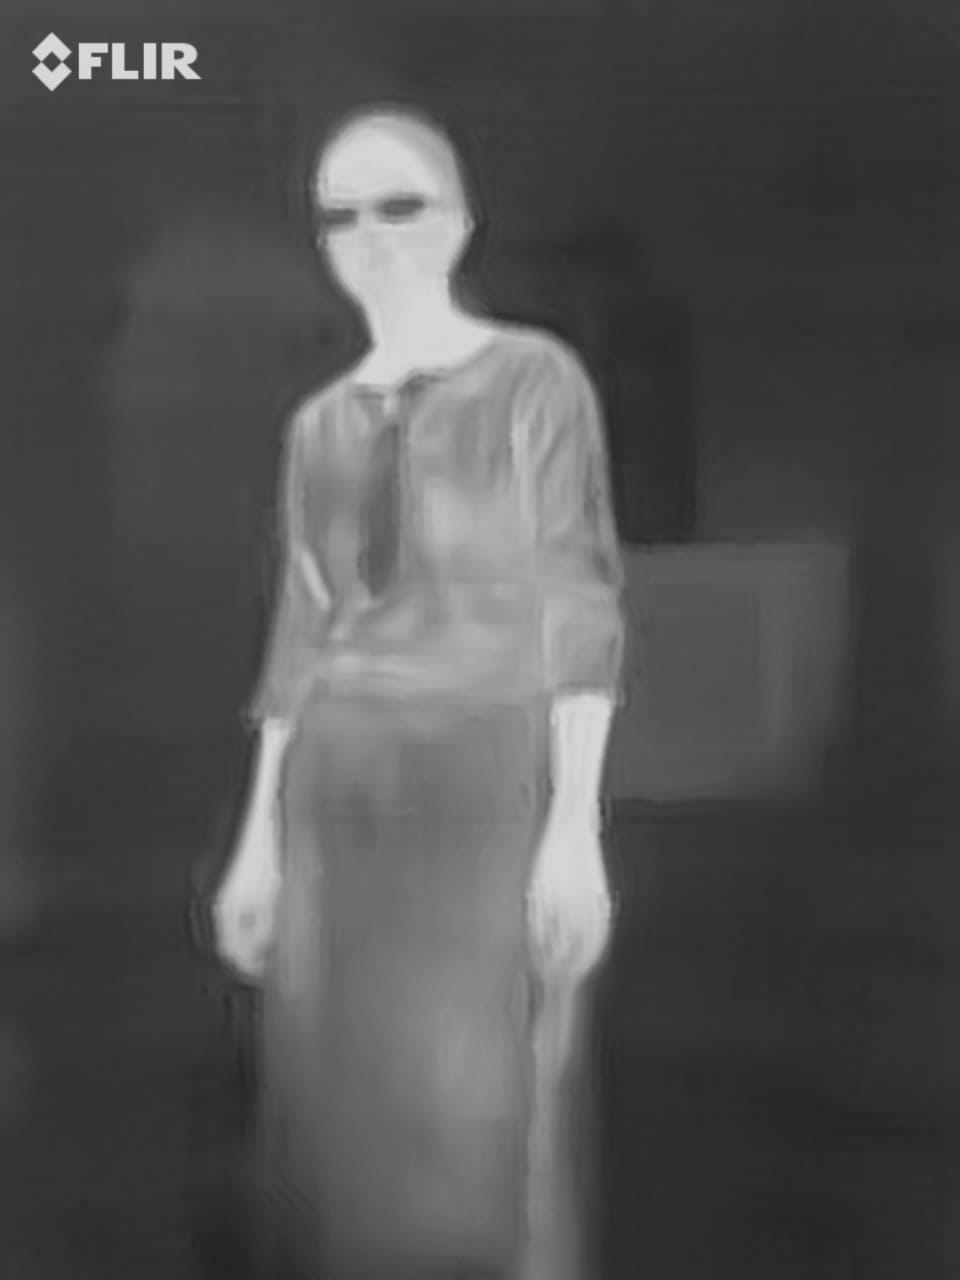head: (286, 103, 484, 325)
